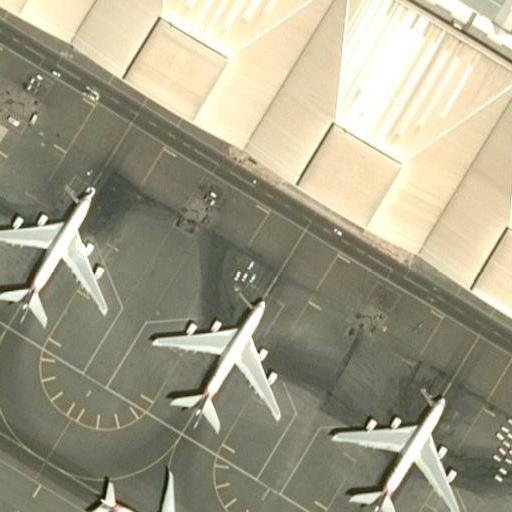Aircraft: (144, 282, 281, 433), (328, 383, 467, 512), (0, 176, 116, 330), (81, 455, 215, 512)
